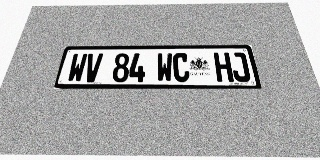4: (128, 53, 146, 82)
8: (112, 53, 130, 82)
C: (173, 53, 190, 82)
H: (213, 53, 234, 82)
J: (229, 52, 251, 82)
V: (83, 53, 103, 82)
W: (66, 53, 88, 82), (156, 53, 173, 82)
